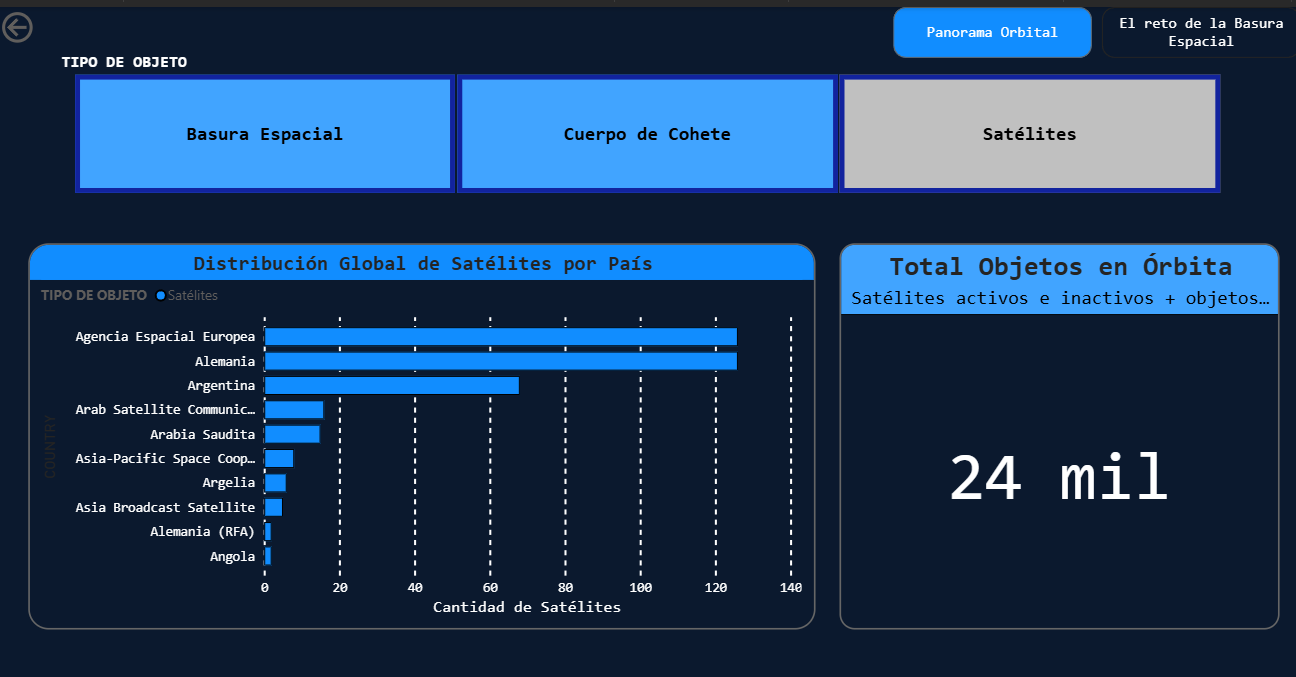

Layout of this report page (visuals, bound fields, positions):
{"tool":"powerbi","page":{"name":"Panorama Orbital","canvas":[1280,720],"ordinal":0},"visuals":[{"type":"slicer","fields":{"Values":["st_deboravrn@gmail_com_20251227_185446361.OBJECT_TYPE"]},"box":[49.8,39.8,1174.3,150.5],"z":0},{"type":"card","title":"Total Objetos en Órbita","fields":{"Values":["Medidas.Conteo de Objetos"]},"box":[827.2,231.4,431.7,379.4],"z":1000},{"type":"clusteredBarChart","title":"Distribución Global de Satélites por País","fields":{"Category":["satelites.COUNTRY"],"Series":["satelites.TIPO DE OBJETO"],"Y":["satelites.NORAD_CAT_ID"]},"box":[31.1,231.4,772.5,379.4],"z":2000},{"type":"actionButton","box":[0,0,100,40],"z":3000},{"type":"pageNavigator","box":[879.9,0,400.3,50.4],"z":4000}]}

Visuals, with their boxes on the page's 1280x720 design canvas (x1, y1, x2, y2). These are canvas units, not pixel positions in the 1296x677 screenshot, which may show the page scaled, cropped or inside an application window:
slicer - st_deboravrn@gmail_com_20251227_185446361.OBJECT_TYPE: rect(50, 40, 1224, 190)
"Total Objetos en Órbita" card: rect(827, 231, 1259, 611)
"Distribución Global de Satélites por País" clusteredBarChart: rect(31, 231, 804, 611)
actionButton: rect(0, 0, 100, 40)
pageNavigator: rect(880, 0, 1280, 50)
